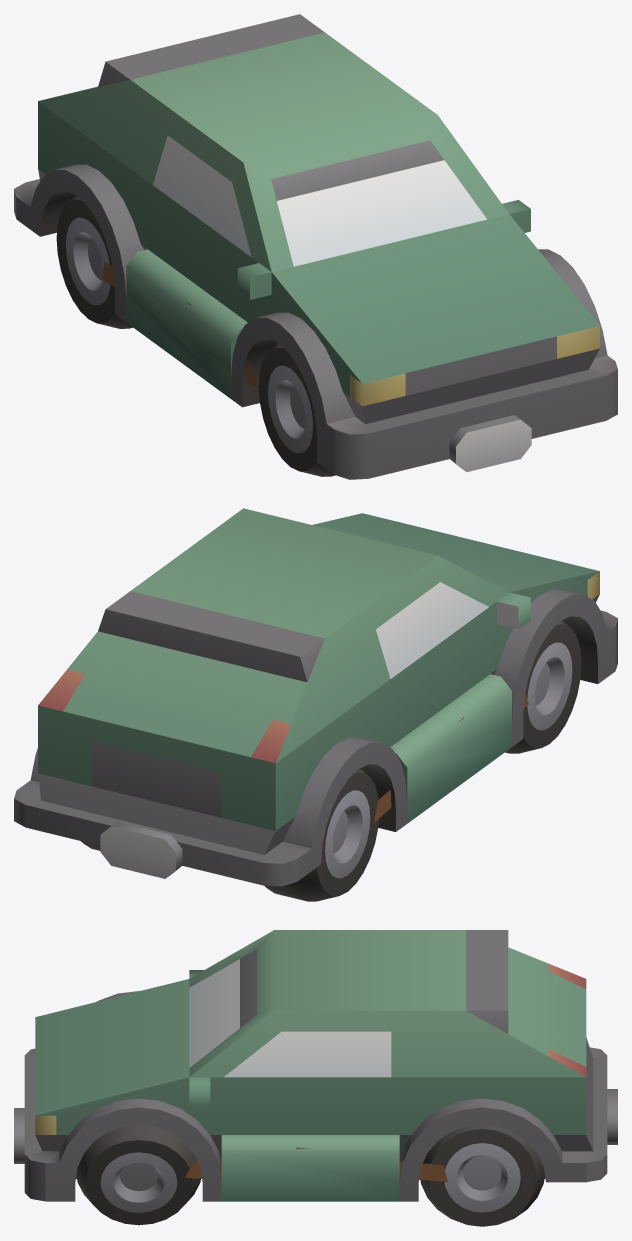
Rendered from ap_coche_2.glb.
3 views of the same model, one above another, from view 1: azimuth 30°, elevation 25°; view 2: azimuth 150°, elevation 25°; view 3: azimuth 270°, elevation 25° (orthographic). The views are drawn at different scales.
Parts seen in each view (by area): view 1: body, wheel-front-right, wheel-back-right; view 2: body, wheel-back-right, wheel-front-right; view 3: body, wheel-back-left, wheel-front-left, Chapa_oxidada.005.
Part boxes in pixels (x1,y1,x2,y2): body: (14, 14, 617, 479); wheel-front-right: (258, 343, 335, 476); wheel-back-right: (56, 196, 132, 328); body: (14, 508, 617, 886); wheel-back-right: (264, 768, 378, 901); wheel-front-right: (505, 620, 581, 753); body: (14, 930, 617, 1201); wheel-back-left: (420, 1124, 544, 1226); wheel-front-left: (76, 1124, 200, 1225); Chapa_oxidada.005: (399, 1161, 447, 1181).
Bounding box in the file's own units: 2.15 × 1.82 × 4.7.
6 materials, 5 textured.
